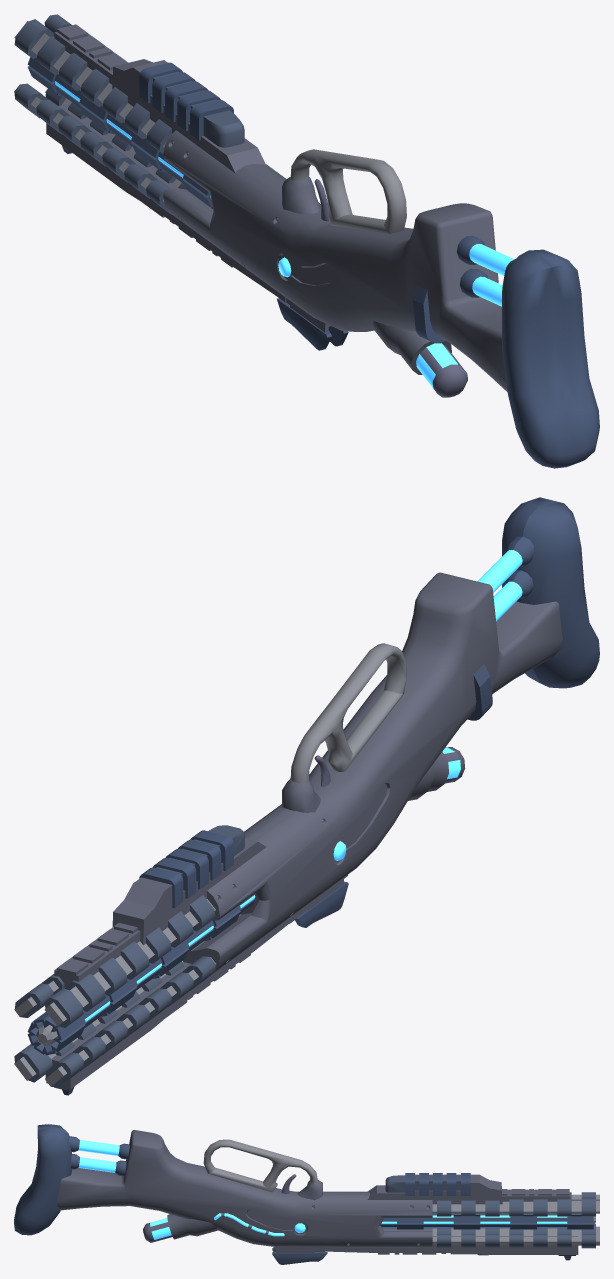
3 renders of one model, top to bottom at view 1: azimuth 30°, elevation 25°; view 2: azimuth 150°, elevation 25°; view 3: azimuth 270°, elevation 25°, orthographic. The views are drawn at different scales.
Parts seen in each view (by area): view 1: Group7, Group11, Group13, Group4, Group3, Group2, Group10, Group8, Group9, Group6, Group15, Componente_3_14 (+3 smaller); view 2: Group7, Group13, Group11, Group4, Group3, Group10, Group2, Group8, Group15, Group9, Group6, Componente_3_14; view 3: Group7, Group13, Group11, Group10, Group3, Group4, Group2, Group14, Group8, Group16, Group9, Group17 (+15 smaller).
Part boxes in pixels (box(x1,y1,x2,y2)): Group7: box(163, 130, 507, 391); Group11: box(502, 249, 599, 468); Group13: box(54, 24, 266, 173); Group4: box(282, 149, 406, 233); Group3: box(46, 104, 348, 350); Group2: box(371, 321, 467, 397); Group10: box(27, 57, 212, 208); Group8: box(457, 236, 515, 275); Group9: box(459, 268, 502, 306); Group6: box(413, 285, 446, 342); Group15: box(14, 21, 166, 147); Componente_3_14: box(14, 19, 53, 58); Group7: box(183, 572, 562, 973); Group13: box(54, 825, 266, 987); Group11: box(502, 497, 599, 688); Group4: box(282, 643, 406, 812); Group3: box(46, 875, 348, 1095); Group10: box(27, 893, 255, 1055); Group2: box(408, 747, 465, 800); Group8: box(477, 536, 534, 592); Group15: box(44, 899, 215, 1026); Group9: box(493, 570, 533, 621); Group6: box(467, 664, 492, 720); Componente_3_14: box(44, 988, 83, 1027); Group7: box(56, 1130, 432, 1247); Group13: box(367, 1173, 569, 1204); Group11: box(14, 1124, 71, 1235); Group10: box(381, 1213, 595, 1229); Group3: box(272, 1236, 578, 1264); Group4: box(203, 1139, 322, 1200); Group2: box(143, 1214, 218, 1242); Group14: box(432, 1200, 599, 1213); Group8: box(69, 1136, 129, 1159); Group16: box(432, 1236, 599, 1245); Group9: box(71, 1154, 126, 1176); Group17: box(432, 1226, 599, 1236).
Bounding box in the file's own units: 0.0765 × 0.2417 × 0.95.
Materials: 2 (2 with a texture image).
